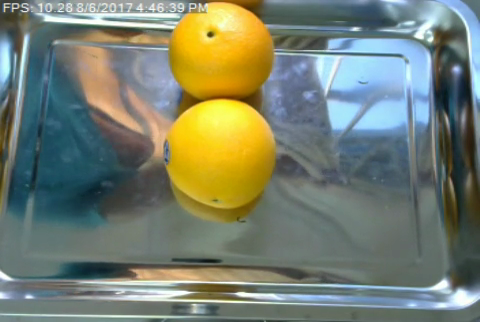Orange: (163, 98, 277, 208), (170, 3, 275, 101)
